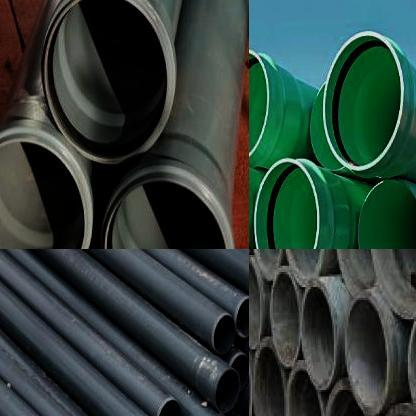pipe: (42, 0, 175, 165), (322, 30, 404, 171), (101, 166, 232, 249), (0, 129, 90, 249), (342, 290, 396, 416), (253, 158, 319, 249), (298, 277, 339, 391), (357, 180, 416, 249), (269, 265, 304, 370), (365, 249, 416, 320), (249, 337, 286, 416), (249, 50, 270, 162), (282, 368, 326, 416), (323, 379, 377, 416), (280, 249, 326, 290), (336, 249, 373, 296), (249, 254, 266, 351), (249, 249, 286, 282), (215, 368, 240, 414), (213, 314, 236, 355), (231, 353, 249, 391), (236, 297, 249, 338), (157, 399, 181, 416)
